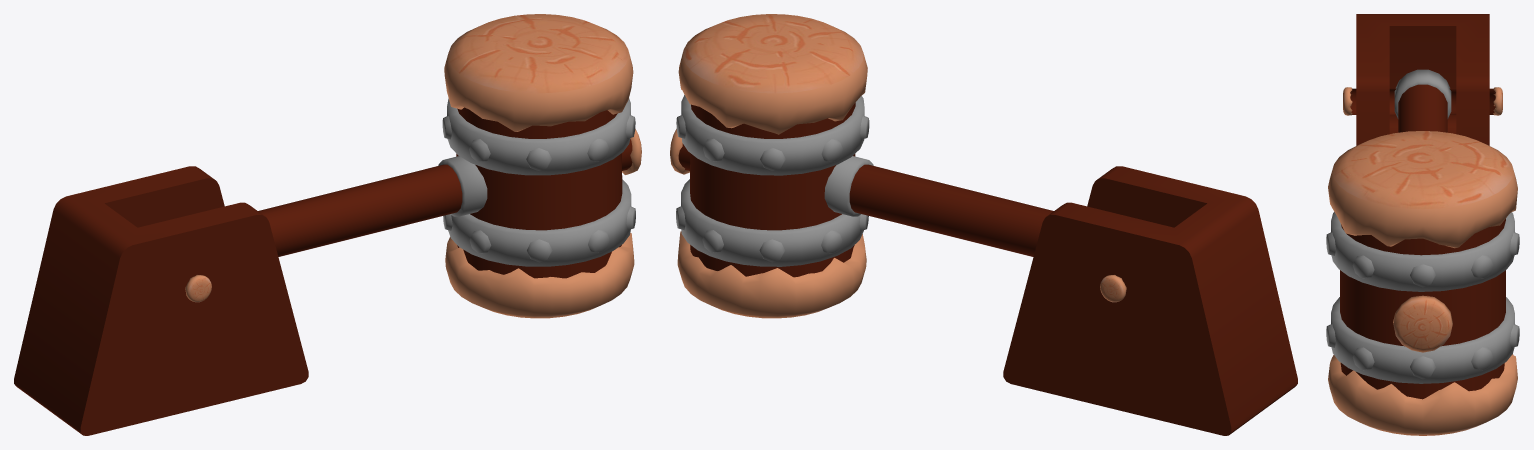
The model's file is Hammer.fbx.
3 renders of one model, left to right at view 1: azimuth 30°, elevation 25°; view 2: azimuth 150°, elevation 25°; view 3: azimuth 270°, elevation 25°, orthographic.
Visible parts, largest first — view 1: HammerBase, HammerMainBlock, HammerSideUp, Handle, HammerSideDown; view 2: HammerBase, HammerMainBlock, HammerSideUp, Handle, HammerSideDown; view 3: HammerMainBlock, HammerSideUp, HammerBase, HammerSideDown, Handle, HandleSide, HammerBaseCilinder, CilinderSide, Bolt2, Bolt1, Bolt19, Bolt18 (+2 smaller).
Boxes of the visible parts, left/top/right/bottom form: HammerBase: left=14, top=166, right=308, bottom=435; HammerMainBlock: left=447, top=98, right=631, bottom=278; HammerSideUp: left=444, top=14, right=633, bottom=131; Handle: left=258, top=139, right=632, bottom=256; HammerSideDown: left=445, top=232, right=634, bottom=318; HammerBase: left=1003, top=166, right=1297, bottom=435; HammerMainBlock: left=681, top=95, right=864, bottom=277; HammerSideUp: left=678, top=14, right=867, bottom=134; Handle: left=678, top=143, right=1053, bottom=256; HammerSideDown: left=677, top=231, right=866, bottom=318; HammerMainBlock: left=1331, top=212, right=1514, bottom=399; HammerSideUp: left=1328, top=131, right=1517, bottom=248; HammerBase: left=1356, top=14, right=1489, bottom=145; HammerSideDown: left=1328, top=354, right=1517, bottom=435; Handle: left=1394, top=69, right=1451, bottom=296; HandleSide: left=1393, top=295, right=1452, bottom=352; HammerBaseCilinder: left=1350, top=88, right=1495, bottom=114; CilinderSide: left=1343, top=87, right=1502, bottom=115; Bolt2: left=1410, top=264, right=1435, bottom=287; Bolt1: left=1410, top=356, right=1435, bottom=379; Bolt19: left=1471, top=255, right=1493, bottom=278; Bolt18: left=1471, top=347, right=1492, bottom=370.
Bounding box in the file's own units: 8.1 × 3.34 × 2.32.
